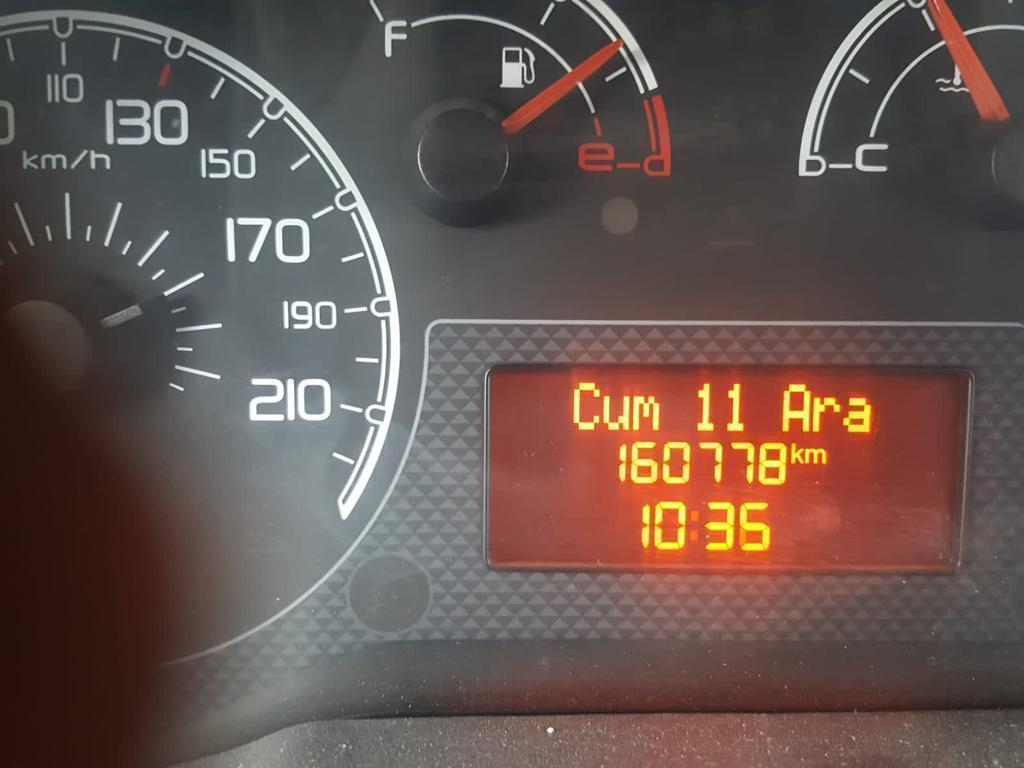0: (653, 499, 687, 552), (662, 439, 691, 486)
1: (723, 378, 745, 434), (696, 378, 717, 434), (616, 437, 629, 483), (640, 501, 651, 551)
3: (705, 500, 734, 552)
5: (739, 500, 770, 553)
6: (630, 439, 659, 486)
7: (729, 439, 755, 482), (697, 440, 722, 482)
8: (757, 440, 787, 487)
X: (569, 380, 600, 432), (781, 380, 811, 432), (841, 394, 875, 436), (631, 392, 661, 431), (813, 392, 840, 435), (601, 392, 629, 433), (804, 447, 828, 465), (689, 506, 699, 542), (790, 441, 804, 464)
odometer: (480, 358, 976, 576)
